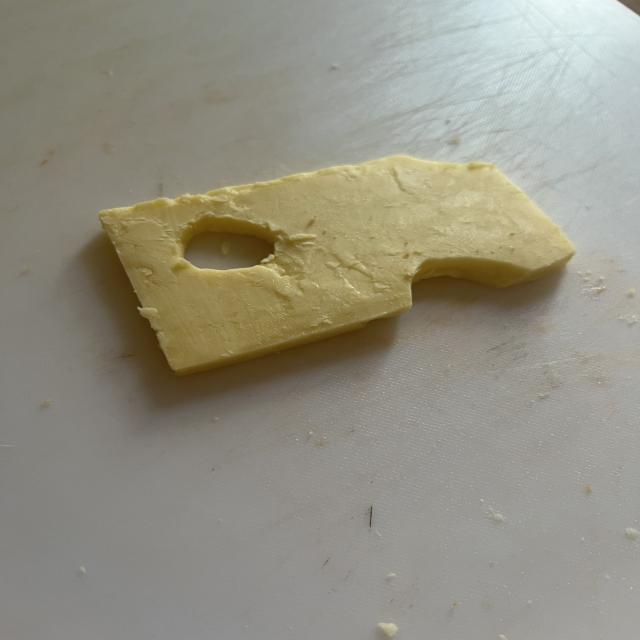cheese: (100, 156, 574, 374)
